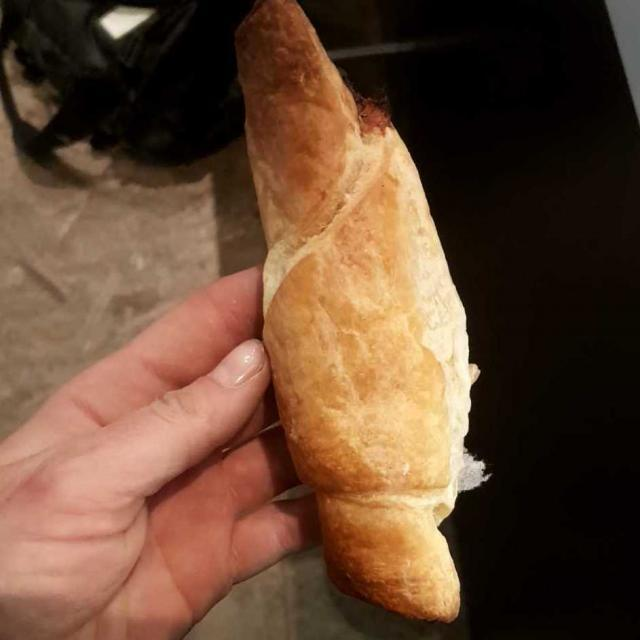croissant: (241, 22, 473, 600)
